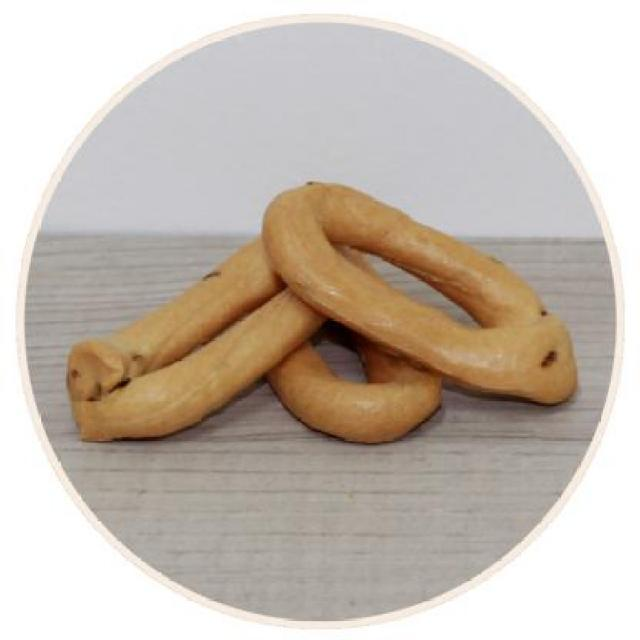Taralli: (66, 180, 583, 448)
